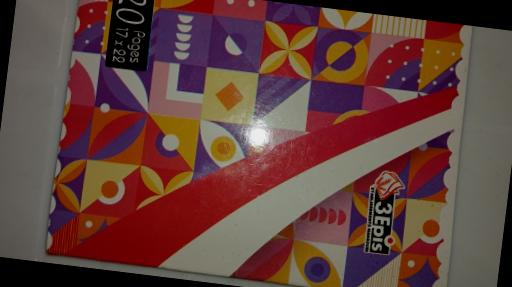notebook: (47, 0, 472, 287)
